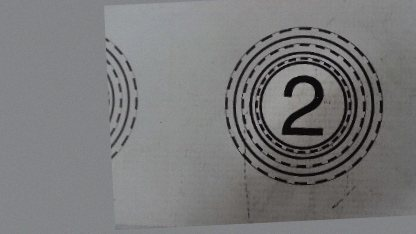2r: (218, 20, 387, 189)
